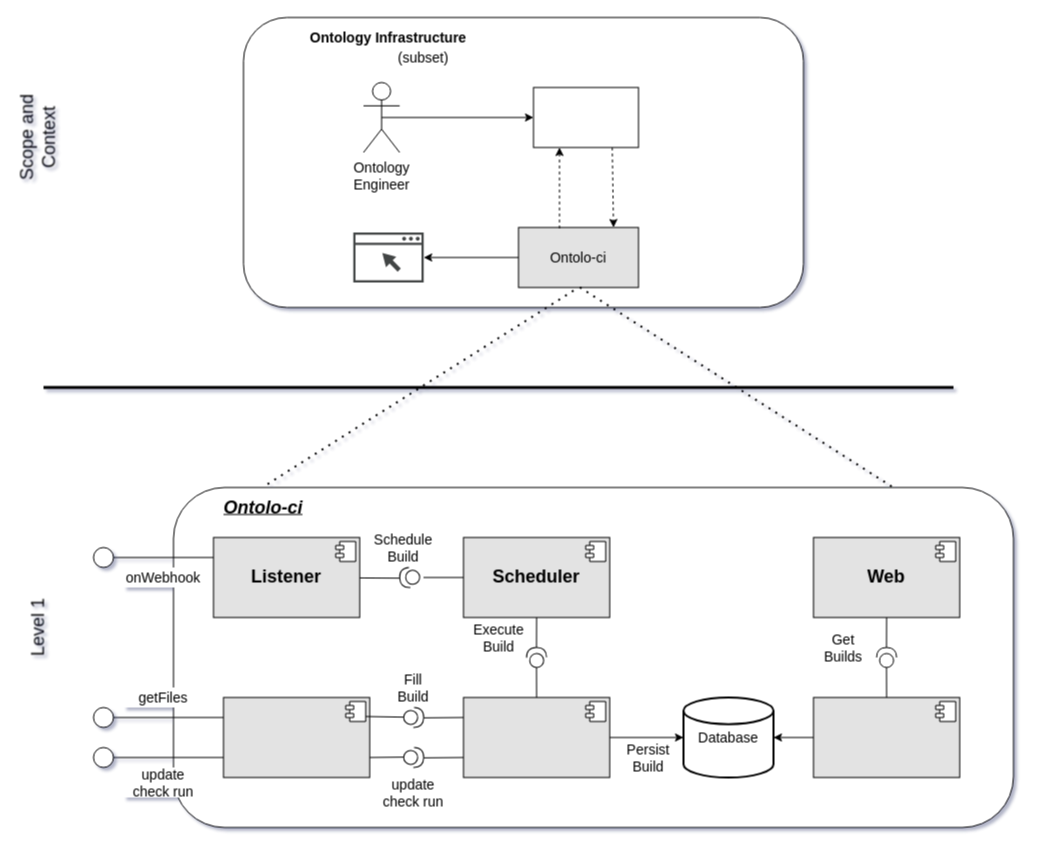
The diagram is 1037 pixels wide and 851 high, and some of its shapes have lost their labels. The centre of each missing label's shape, as x and y in pixels:
Api: pixel 886 737
Control Version System: pixel 585 117
Hub: pixel 296 737
Web Client: pixel 388 257
Worker: pixel 536 737
